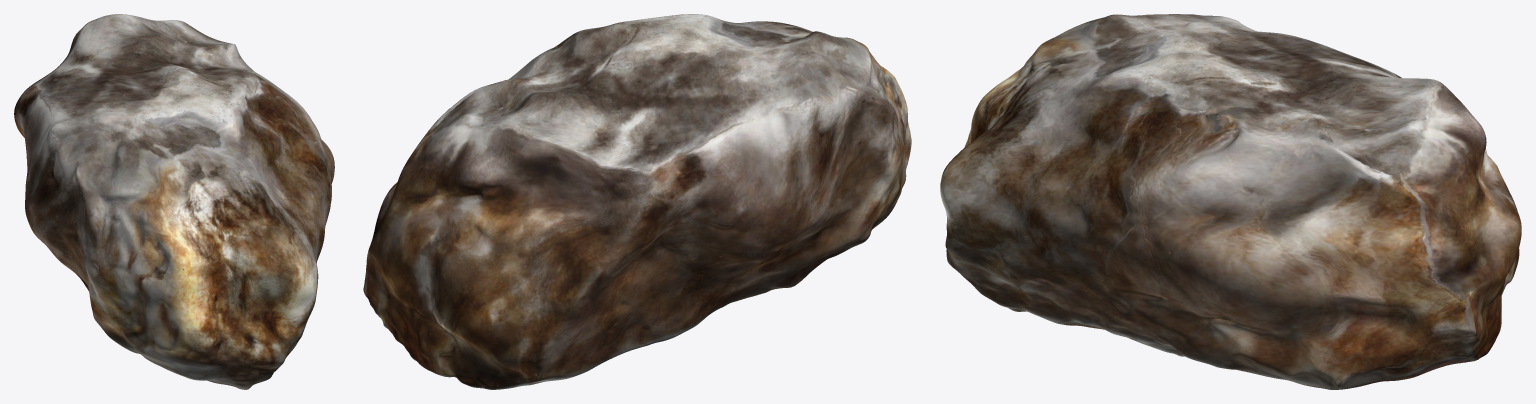
Rendered from BrownRock3.fbx.
3 renders of one model, left to right at view 1: azimuth 30°, elevation 25°; view 2: azimuth 150°, elevation 25°; view 3: azimuth 270°, elevation 25°, orthographic. The views are drawn at different scales.
Parts seen in each view (by area): view 1: rock3; view 2: rock3; view 3: rock3.
Boxes of the visible parts, x1,y1,x2,y2 form: rock3: (14,14,334,389); rock3: (363,14,911,389); rock3: (940,14,1521,389).
Size of the model in its own units: 170 by 125 by 249.
1 material, 1 textured.
